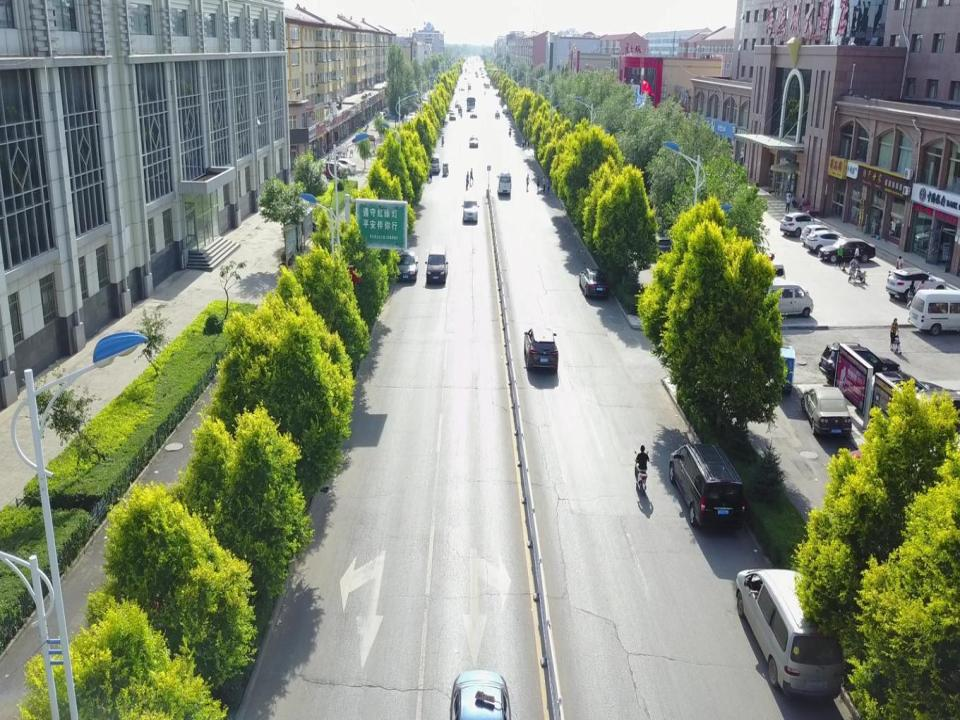bus: (465, 95, 477, 111), (470, 111, 477, 119)
car: (735, 567, 843, 701), (668, 441, 745, 532), (819, 342, 901, 386), (447, 668, 513, 720), (870, 371, 950, 410), (799, 385, 852, 439), (910, 389, 960, 433), (819, 236, 877, 266), (887, 268, 945, 298), (523, 326, 558, 373), (578, 266, 609, 298), (424, 247, 448, 285), (806, 231, 848, 252), (781, 213, 817, 235), (799, 223, 836, 244), (632, 451, 650, 492), (397, 251, 418, 282), (313, 161, 340, 178), (497, 170, 512, 197), (462, 197, 478, 222), (330, 158, 355, 174), (652, 232, 670, 252), (351, 134, 375, 146), (428, 152, 440, 172), (470, 134, 479, 148), (449, 111, 455, 121), (503, 103, 508, 114), (454, 100, 462, 106), (468, 84, 472, 90), (485, 83, 489, 88)
van: (910, 287, 960, 333), (760, 279, 813, 317)
